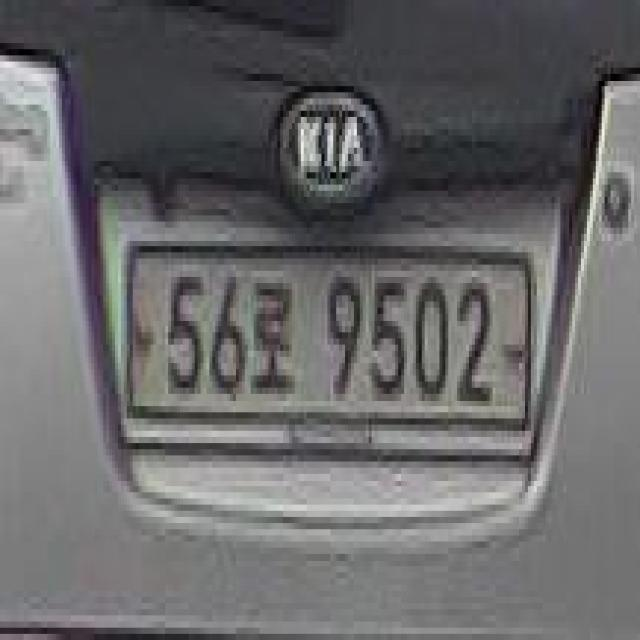illegal_plate: (119, 235, 538, 471)
